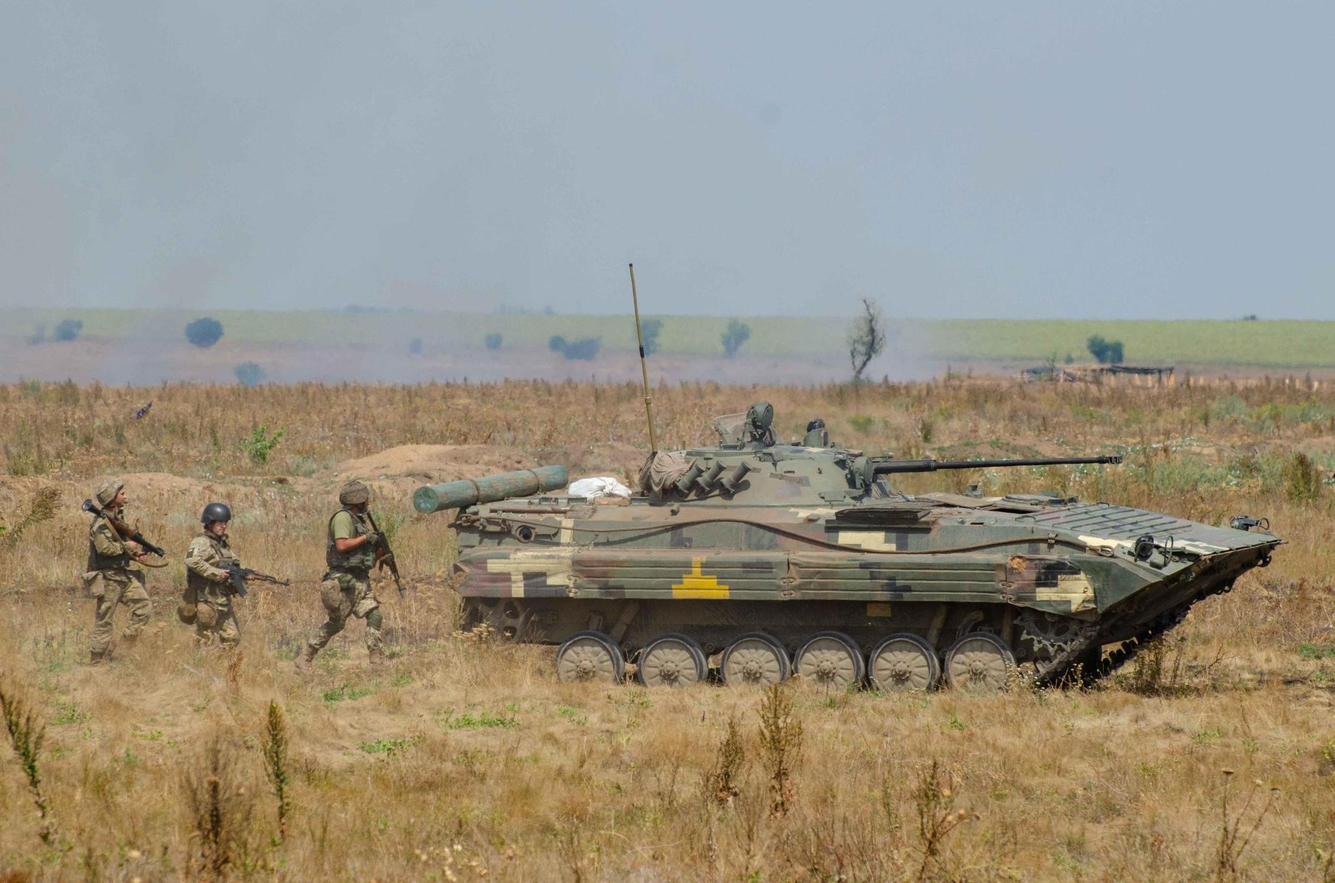person: (293, 479, 397, 677), (80, 477, 156, 669), (176, 500, 258, 659)
tank: (411, 399, 1289, 695)
